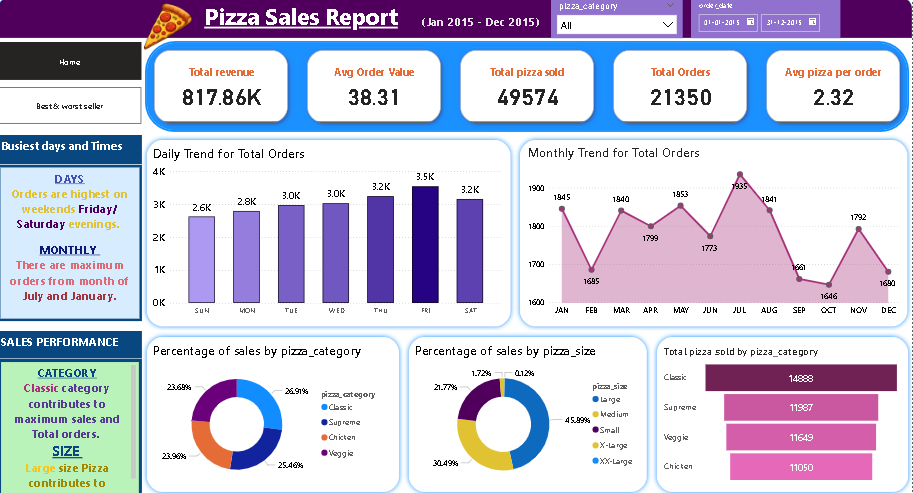

This screenshot's page, from the dashboard's own definition file:
{"tool":"powerbi","page":{"name":"Home","canvas":[1500,820],"ordinal":0},"visuals":[{"type":"cardVisual","fields":{"Data":["pizza_sales.Total revenue","pizza_sales.Avg Order Value","pizza_sales.Total pizza sold","pizza_sales.Total Orders","pizza_sales.Avg pizza per order"]},"box":[235.9,67.2,1264.1,159.4],"z":0},{"type":"shape","box":[0,1.6,1499,65.6],"z":1000},{"type":"textbox","box":[315.6,1.6,364.1,65.6],"z":2000},{"type":"textbox","box":[679.7,23.4,226.6,43.8],"z":3000},{"type":"image","box":[223.4,0,109.4,98.4],"z":4000},{"type":"shape","box":[235.9,226.6,612.5,321.9],"z":5000},{"type":"columnChart","title":"Daily Trend for Total Orders ","fields":{"Category":["pizza_sales.Order day"],"Y":["pizza_sales.Total Orders"]},"box":[250,240.6,582.8,290.6],"z":6000},{"type":"shape","box":[848.4,226.6,651.6,321.9],"z":7000},{"type":"areaChart","title":" Monthly Trend for Total Orders","fields":{"Category":["pizza_sales.Order month"],"Y":["pizza_sales.Total Orders"]},"box":[864.1,239.1,620.3,292.2],"z":8000},{"type":"shape","box":[235.9,550,429.7,270.3],"z":9000},{"type":"shape","box":[1071.9,550,428.1,270.3],"z":10000},{"type":"shape","box":[665.6,550,406.2,270.3],"z":11000},{"type":"donutChart","title":"Percentage of sales by pizza_category","fields":{"Category":["pizza_sales.pizza_category"],"Y":["pizza_sales.Total revenue"]},"box":[250,564.1,393.8,245.3],"z":12000},{"type":"donutChart","title":"Percentage of sales by pizza_size","fields":{"Y":["pizza_sales.Total revenue"],"Category":["pizza_sales.pizza_size"]},"box":[679.7,564.1,379.7,245.3],"z":13000},{"type":"funnel","fields":{"Category":["pizza_sales.pizza_category"],"Y":["pizza_sales.Total pizza sold"]},"box":[1087.5,570.3,396.9,231.2],"z":14000},{"type":"slicer","fields":{"Values":["pizza_sales.pizza_category"]},"box":[906.2,1.6,215.6,65.6],"z":15000},{"type":"slicer","fields":{"Values":["pizza_sales.order_date"]},"box":[1135.9,1.6,245.3,65.6],"z":16000},{"type":"textbox","box":[0,226.6,235.9,48.4],"z":17000},{"type":"textbox","box":[0,275,235.9,256.2],"z":18000},{"type":"textbox","box":[0,548.4,235.9,45.3],"z":19000},{"type":"textbox","box":[0,593,236,227],"z":20000},{"type":"pageNavigator","box":[0,73.4,235.9,62.5],"z":21000},{"type":"pageNavigator","box":[0,146.9,235.9,60.9],"z":22000}]}

Visuals, with their boxes in screenshot pixels (x1, y1, x2, y2), scaled from the page's 1500x820 canvas onto the 913x493 screenshot:
cardVisual - pizza_sales.Total revenue x pizza_sales.Avg Order Value: region(144, 40, 912, 136)
shape: region(0, 1, 912, 40)
textbox: region(192, 1, 414, 40)
textbox: region(414, 14, 552, 40)
image: region(136, 0, 203, 59)
shape: region(144, 136, 516, 330)
"Daily Trend for Total Orders " columnChart: region(152, 145, 507, 319)
shape: region(516, 136, 912, 330)
" Monthly Trend for Total Orders" areaChart: region(526, 144, 904, 319)
shape: region(144, 331, 405, 492)
shape: region(652, 331, 912, 492)
shape: region(405, 331, 652, 492)
"Percentage of sales by pizza_category" donutChart: region(152, 339, 392, 487)
"Percentage of sales by pizza_size" donutChart: region(414, 339, 645, 487)
funnel - pizza_sales.pizza_category x pizza_sales.Total pizza sold: region(662, 343, 904, 482)
slicer - pizza_sales.pizza_category: region(552, 1, 683, 40)
slicer - pizza_sales.order_date: region(691, 1, 841, 40)
textbox: region(0, 136, 144, 165)
textbox: region(0, 165, 144, 319)
textbox: region(0, 330, 144, 357)
textbox: region(0, 357, 144, 492)
pageNavigator: region(0, 44, 144, 82)
pageNavigator: region(0, 88, 144, 125)
